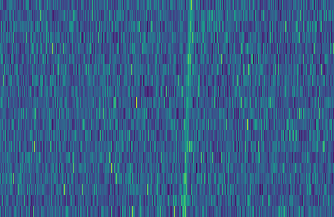signal: (179, 0, 195, 217)
